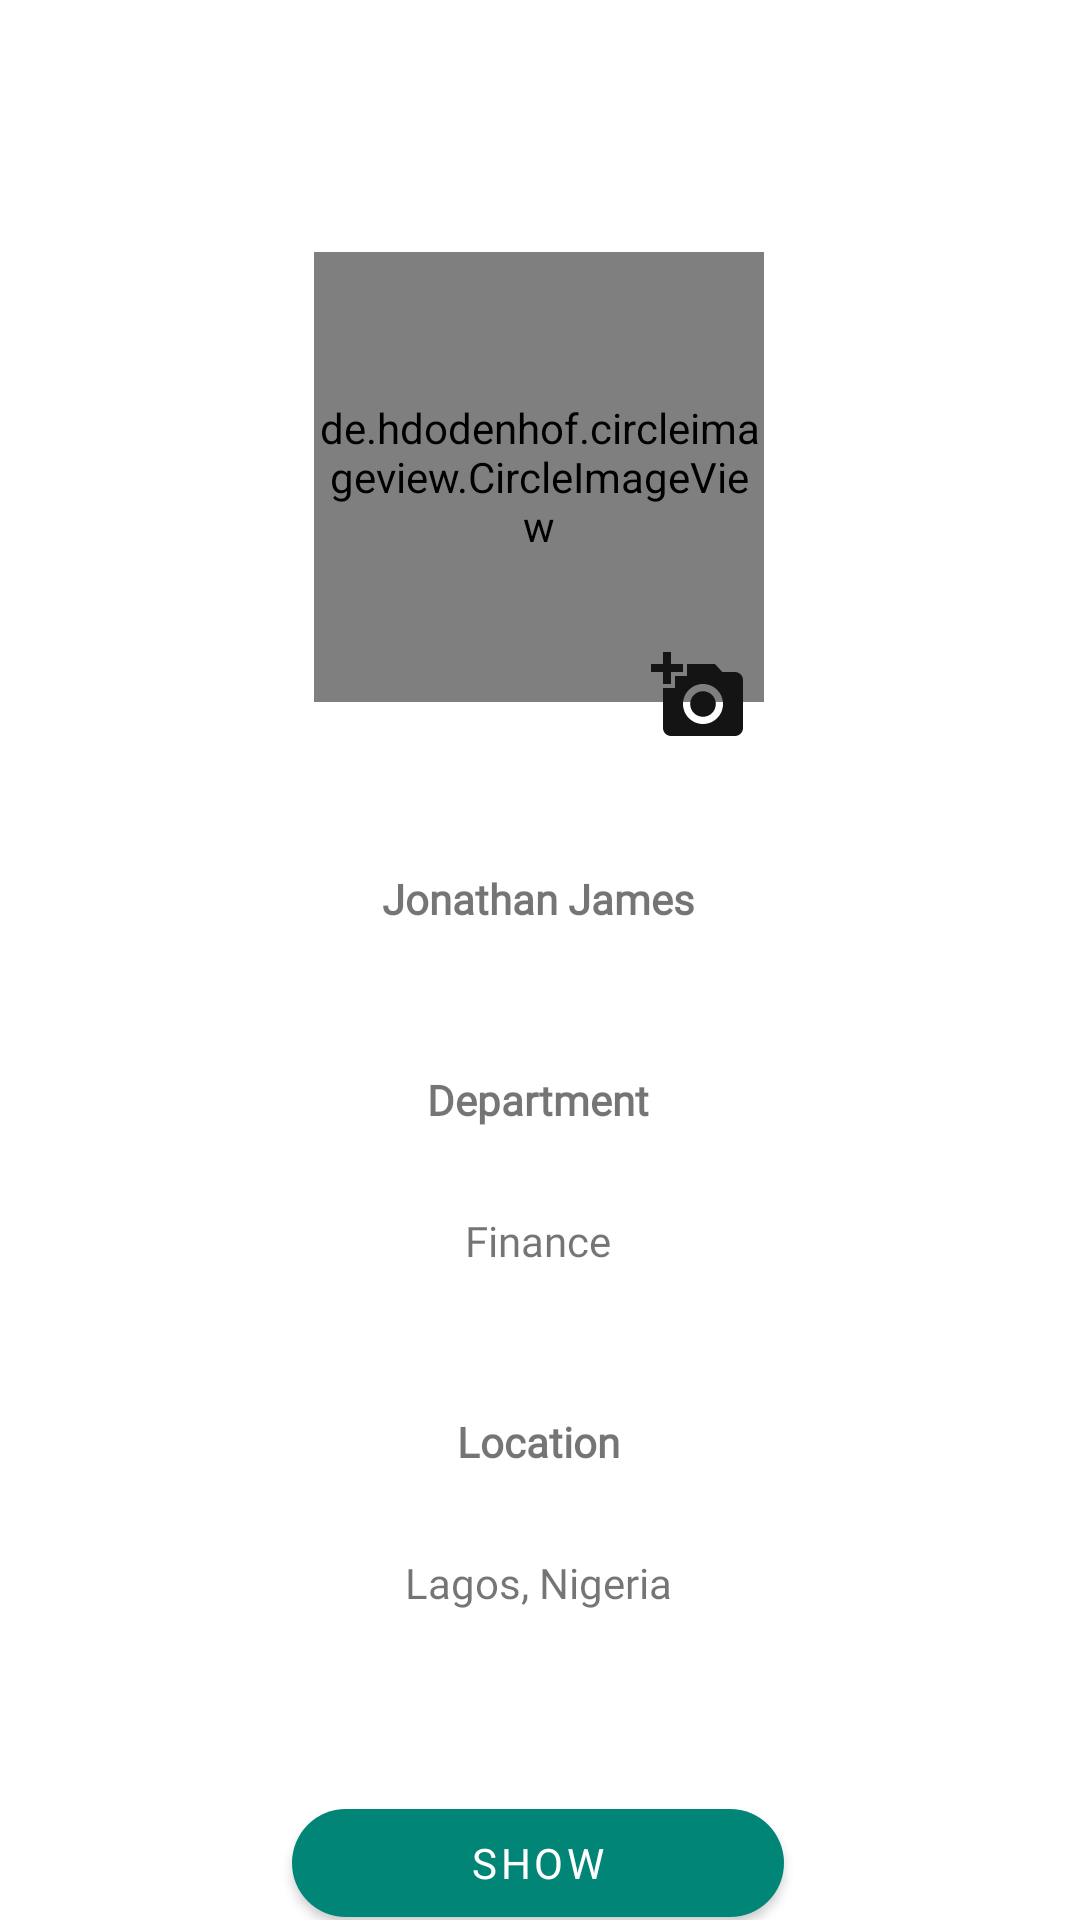

Icon click points for this 1080*1920 phone screenshot, format (x,y):
take photo: (699,696)
